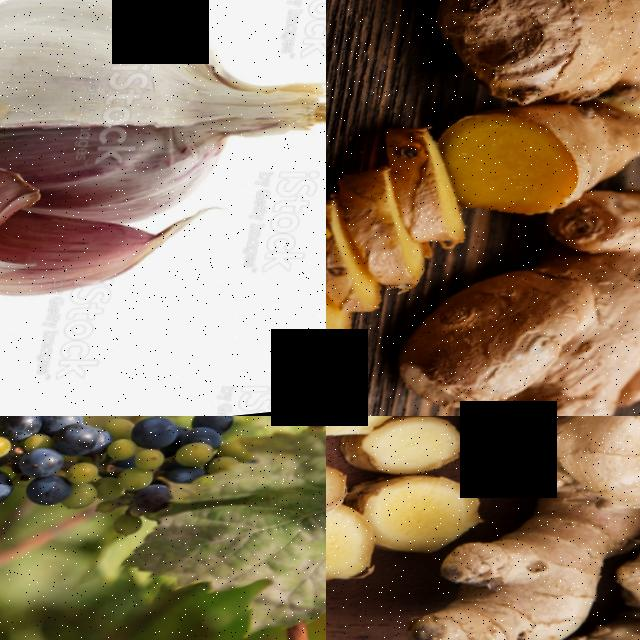garlic: (0, 0, 303, 210), (0, 206, 176, 321), (0, 146, 49, 350)
ginger: (390, 179, 640, 416), (408, 0, 640, 149), (411, 505, 640, 640), (446, 86, 640, 237), (469, 416, 640, 547)
grapes: (0, 416, 173, 540)
